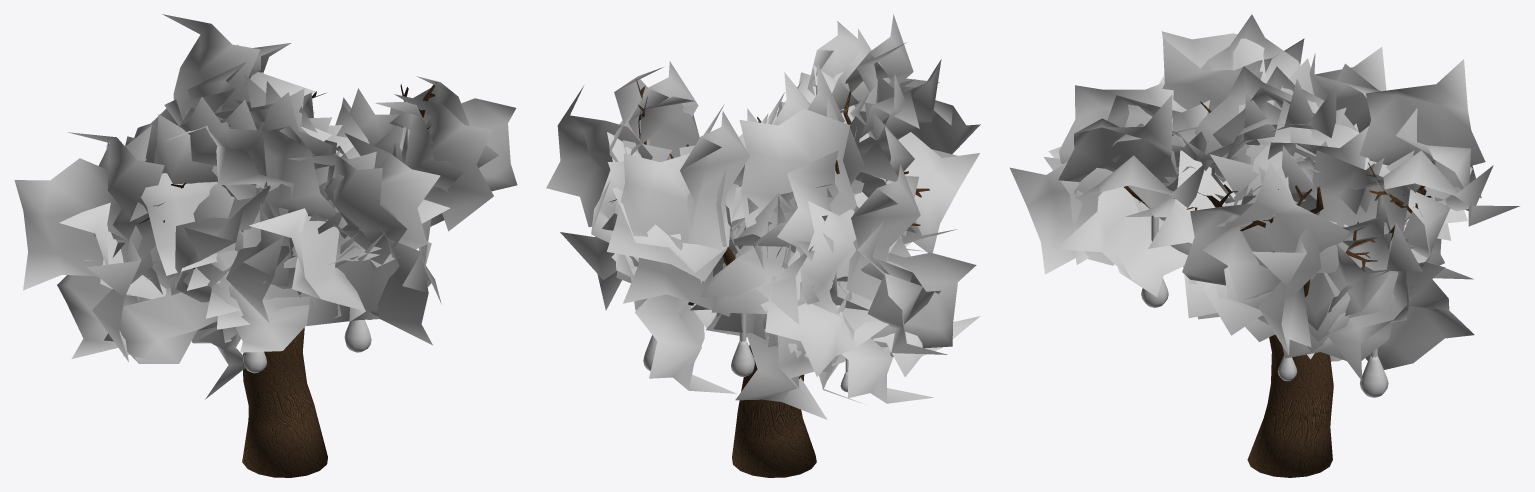
Rendered from PinkTree4_1.fbx.
3 renders of one model, left to right at view 1: azimuth 30°, elevation 25°; view 2: azimuth 150°, elevation 25°; view 3: azimuth 270°, elevation 25°, orthographic.
Visible parts, largest first — view 1: Tree4|Leaves|Dupli|108, Tree4, OrangeFruit.002; view 2: Tree4|Leaves|Dupli|108, Tree4, OrangeFruit.005; view 3: Tree4|Leaves|Dupli|108, Tree4, OrangeFruit.006, OrangeFruit.002.
Part boxes in pixels (x1,y1,x2,y2): Tree4|Leaves|Dupli|108: (14, 14, 517, 399); Tree4: (139, 82, 436, 477); OrangeFruit.002: (344, 320, 371, 352); Tree4|Leaves|Dupli|108: (546, 14, 980, 419); Tree4: (609, 79, 929, 477); OrangeFruit.005: (731, 313, 754, 376); Tree4|Leaves|Dupli|108: (1010, 14, 1519, 380); Tree4: (1124, 101, 1433, 477); OrangeFruit.006: (1360, 348, 1388, 397); OrangeFruit.002: (1141, 215, 1168, 307).
Size of the model in its own units: 1747 by 1490 by 1739.
